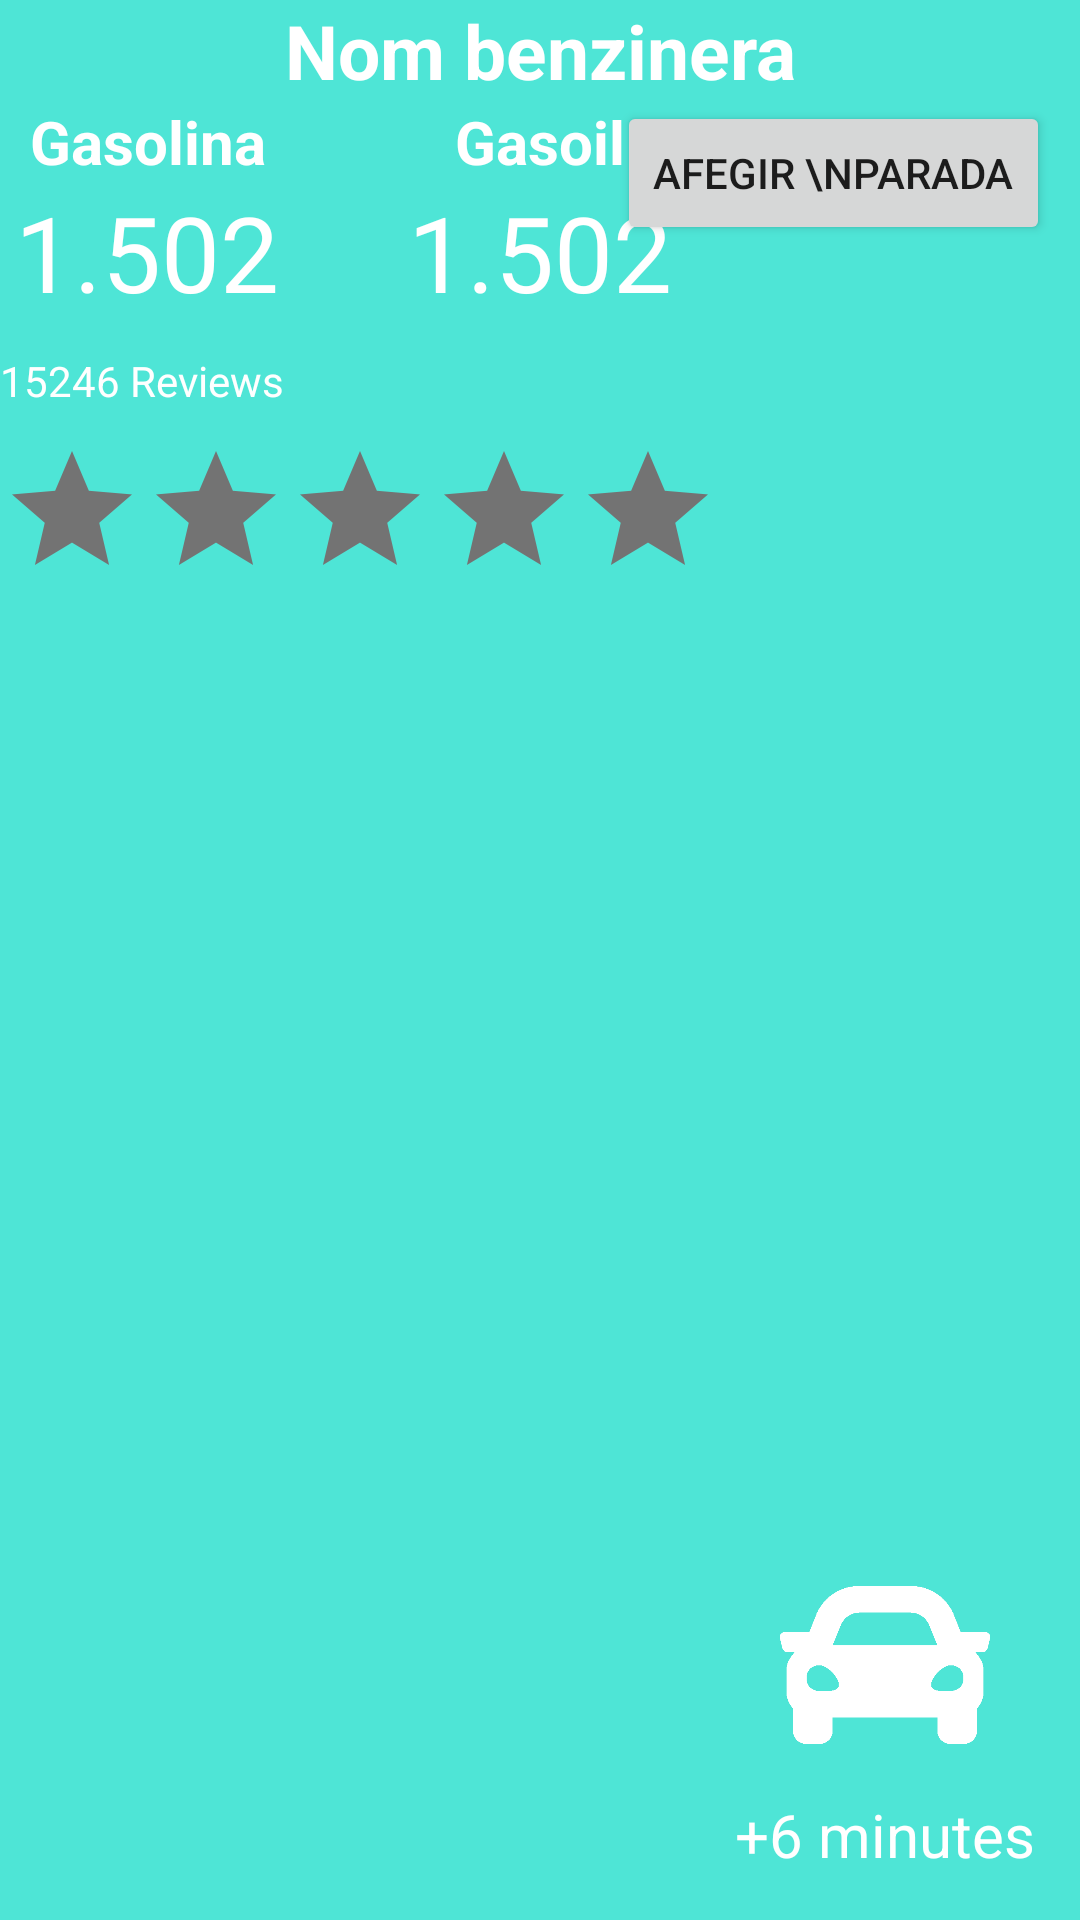

Point at icon controls on the screen. Image size 1080px×1920px, points as (x=x, y=y).
car: (x=885, y=1665)
